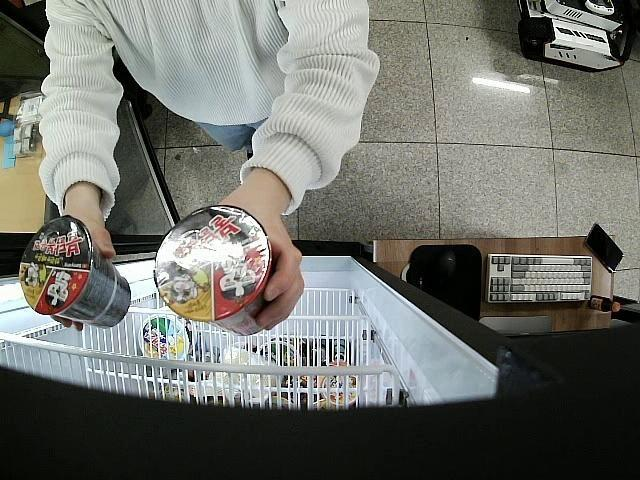08_buldak_S: (154, 206, 274, 338), (18, 216, 131, 330)
